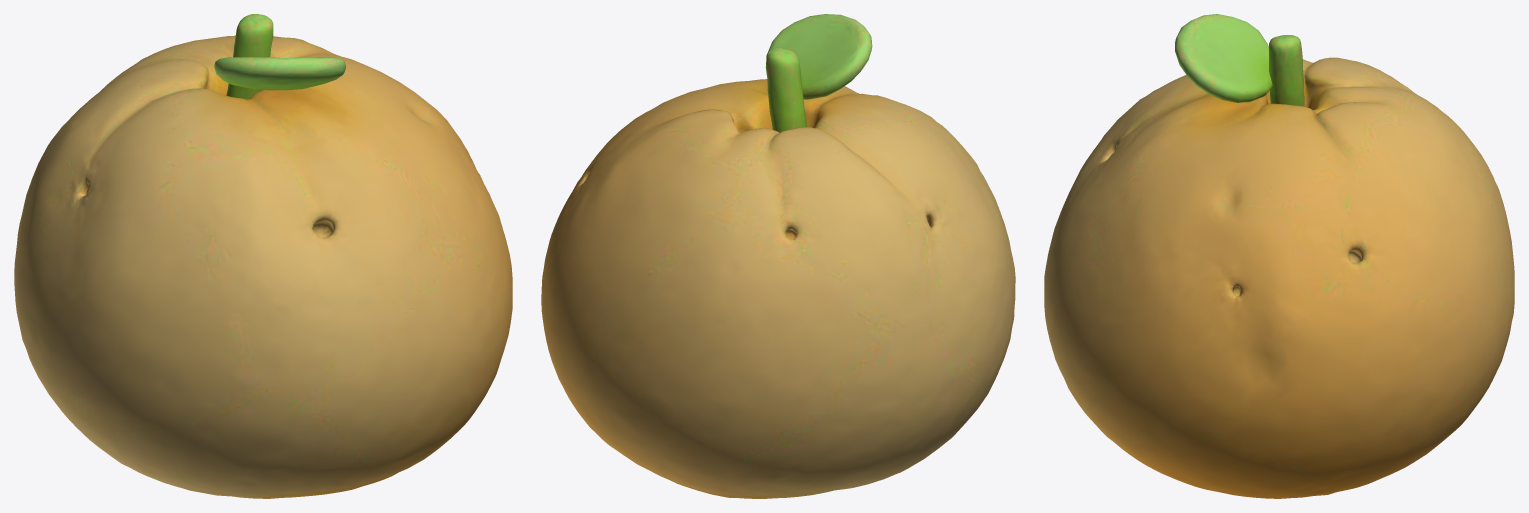
Rendered from orange.glb.
3 renders of one model, left to right at view 1: azimuth 30°, elevation 25°; view 2: azimuth 150°, elevation 25°; view 3: azimuth 270°, elevation 25°, orthographic. The views are drawn at different scales.
Visible parts, largest first — view 1: tripo_node_547a688c-05c7-4e7b-903c-0ae7dad5d066; view 2: tripo_node_547a688c-05c7-4e7b-903c-0ae7dad5d066; view 3: tripo_node_547a688c-05c7-4e7b-903c-0ae7dad5d066.
Boxes of the visible parts, left/top/right/bottom form: tripo_node_547a688c-05c7-4e7b-903c-0ae7dad5d066: left=14, top=14, right=512, bottom=498; tripo_node_547a688c-05c7-4e7b-903c-0ae7dad5d066: left=541, top=14, right=1015, bottom=498; tripo_node_547a688c-05c7-4e7b-903c-0ae7dad5d066: left=1044, top=14, right=1514, bottom=498.
Size of the model in its own units: 0.998 by 0.9434 by 0.998.
Materials: 1 (1 with a texture image).
